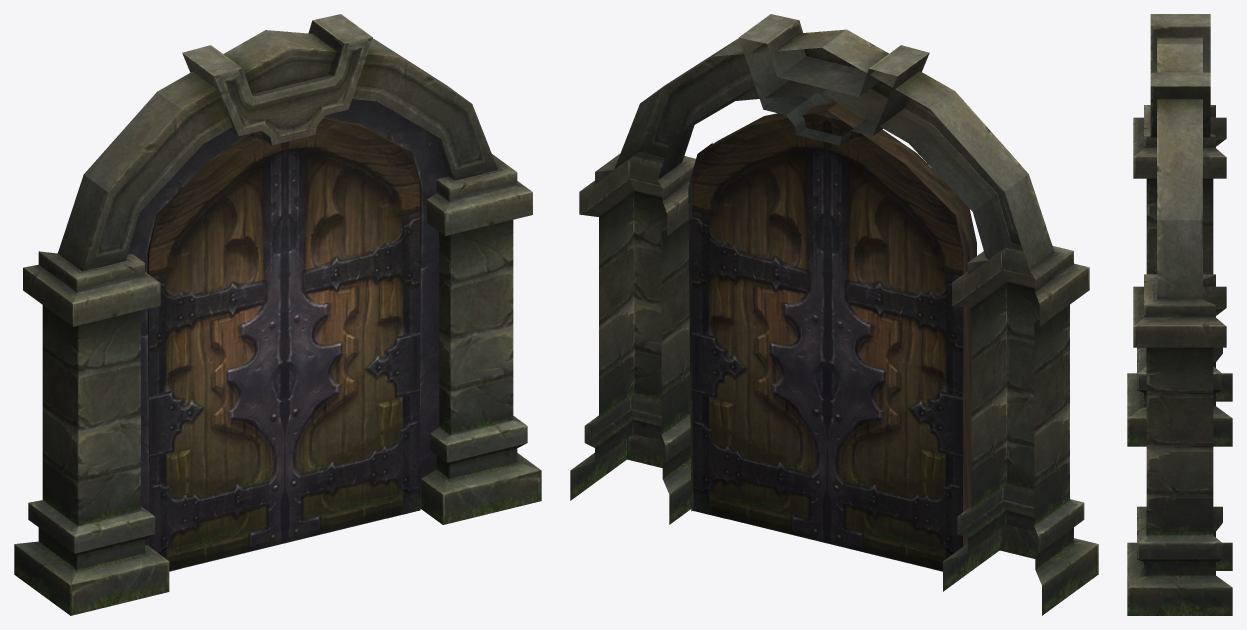
The picture shows the model from 3 angles, left to right: view 1: azimuth 30°, elevation 25°; view 2: azimuth 150°, elevation 25°; view 3: azimuth 270°, elevation 25°; orthographic projection. The views are drawn at different scales.
Visible parts, largest first — view 1: Box005, door_002, door_001, door_009, door_010, door_000, door_011, door_003, door_007, door_008, door_004, door_006 (+4 smaller); view 2: Box005, door_002, door_001, door_009, door_010, door_000, door_007, door_011, door_003, door_004, door_008, door_005 (+4 smaller); view 3: Box005.
Boxes of the visible parts, box(x1,y1,x2,y2) form: Box005: box(14, 14, 541, 615); door_002: box(298, 148, 420, 358); door_001: box(187, 118, 408, 233); door_009: box(148, 385, 245, 571); door_010: box(182, 476, 385, 568); door_000: box(147, 183, 252, 315); door_011: box(214, 228, 303, 362); door_003: box(244, 395, 364, 499); door_007: box(168, 319, 261, 444); door_008: box(242, 356, 344, 467); door_004: box(365, 412, 420, 518); door_006: box(355, 338, 420, 433); Box005: box(570, 14, 1098, 615); door_002: box(692, 143, 817, 359); door_001: box(704, 101, 936, 235); door_009: box(867, 386, 971, 571); door_010: box(727, 472, 932, 569); door_000: box(860, 174, 976, 309); door_007: box(844, 309, 946, 449); door_011: box(811, 230, 895, 360); door_003: box(753, 399, 867, 494); door_004: box(692, 408, 753, 518); door_008: box(764, 353, 869, 470); door_005: box(887, 283, 971, 393); Box005: box(1127, 14, 1232, 615).
Bounding box in the file's own units: 61.03 × 61.87 × 12.69.
